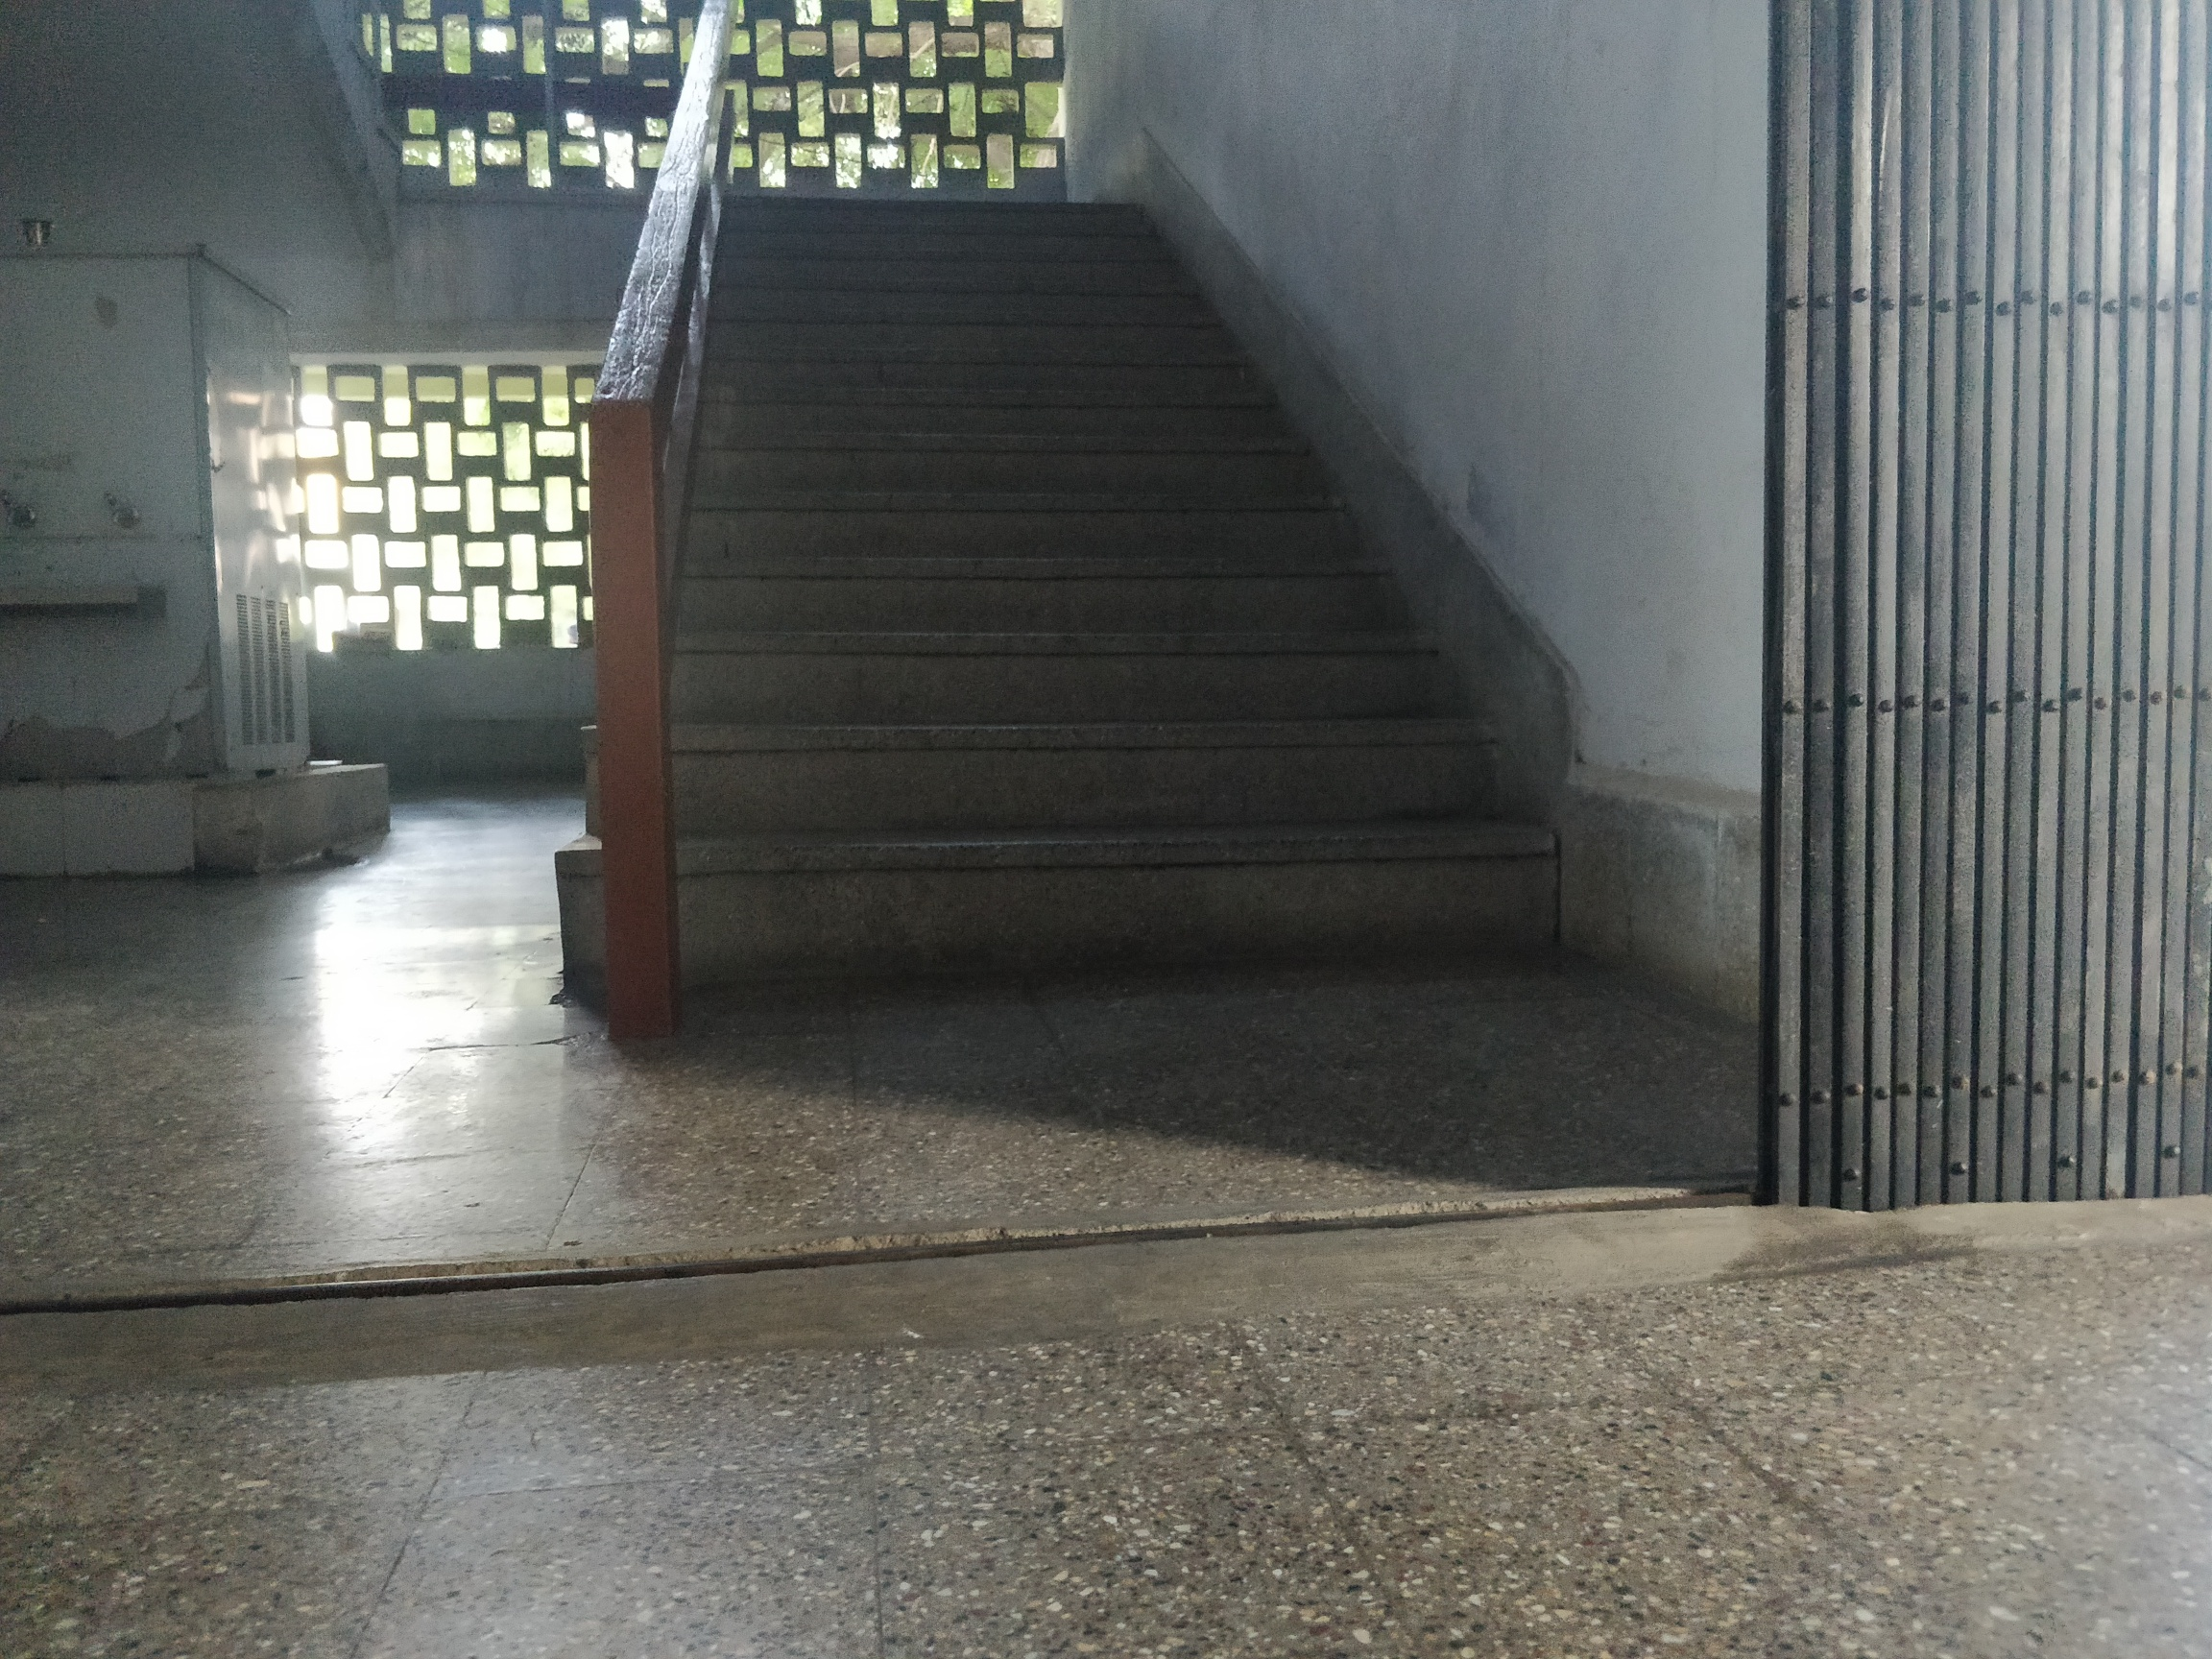stairs_up: (631, 178, 1554, 1012)
